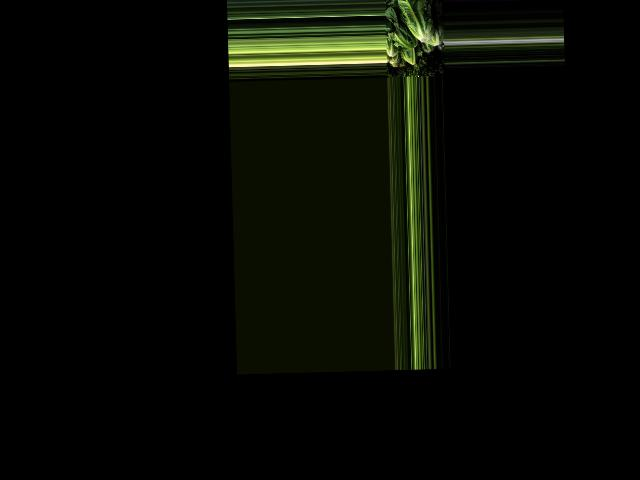lettuce: (387, 4, 417, 51)
